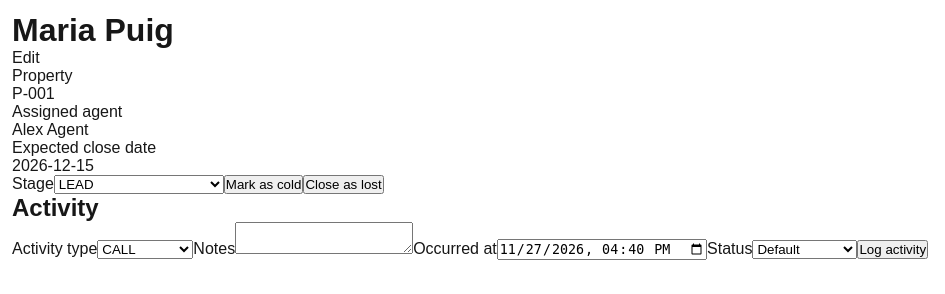
Scenario: Deal detail view › logs a new activity via the mini-form and shows it in the activity list
Expected: the link "Maria Puig" is shown, [12,12,174,48]
Select "CALL" in the dropdown labelled "Activity type": (145,250) [97,240,193,259]
In the text box labelled "Notes": (324,238) [235,222,413,254], type "Left a voicemail"
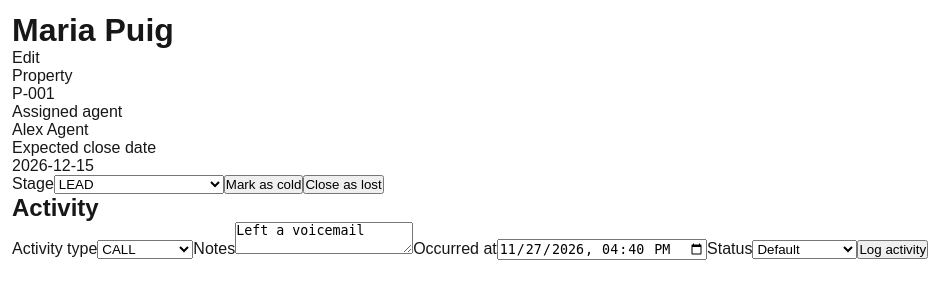
Click the button "Log activity": (893,250) [857,240,928,259]
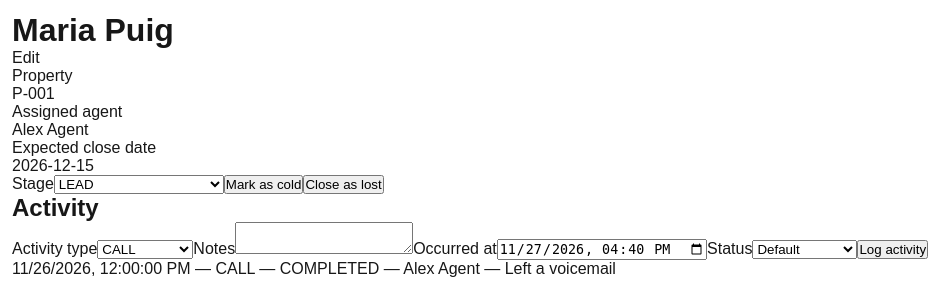
Now the text "Left a voicemail" is shown, box [505,260,616,277]
Now the text "Alex Agent" in the row of "11/26/2026, 12:00:00 PM" is shown, box [403,260,480,277]
